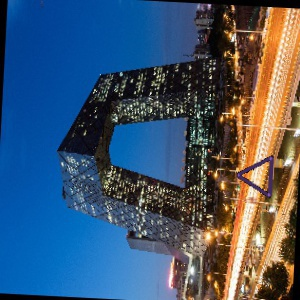triangle: (235, 153, 276, 200)
